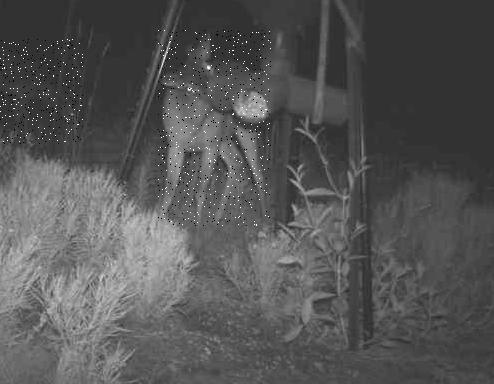Deer: (158, 30, 271, 226), (0, 39, 83, 145)
